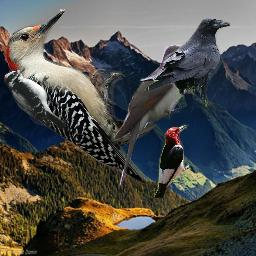Crow: (139, 18, 230, 107)
Cuckoo: (113, 44, 188, 189)
Woodpecker: (4, 8, 157, 184), (4, 68, 65, 130), (153, 124, 189, 198)
